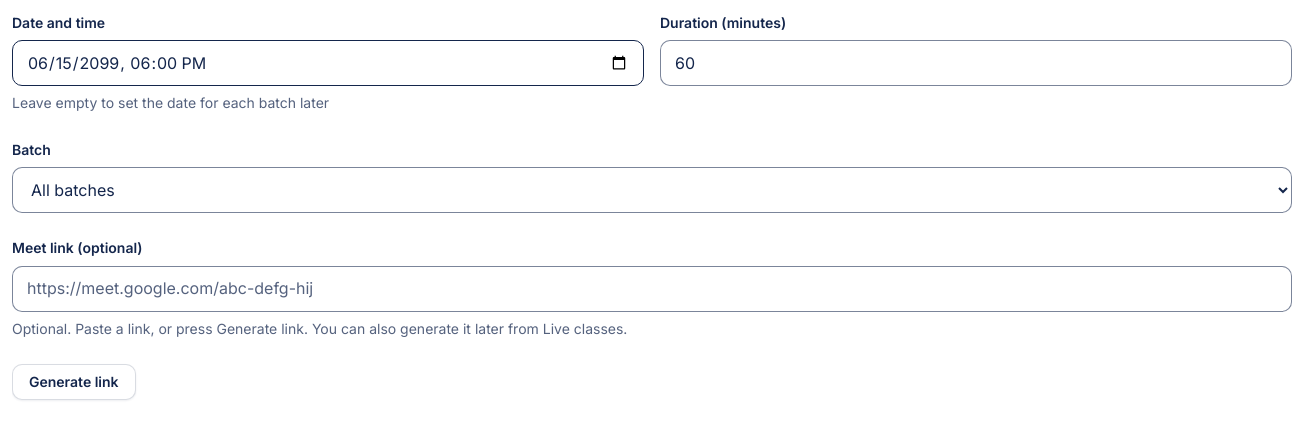
in the live lesson form the generated link fills the optional Meet link field
This screenshot has width=1304, height=421.
Click the button "Generate link".
click(74, 382)  # box top-left (12, 364), bottom-right (136, 400)
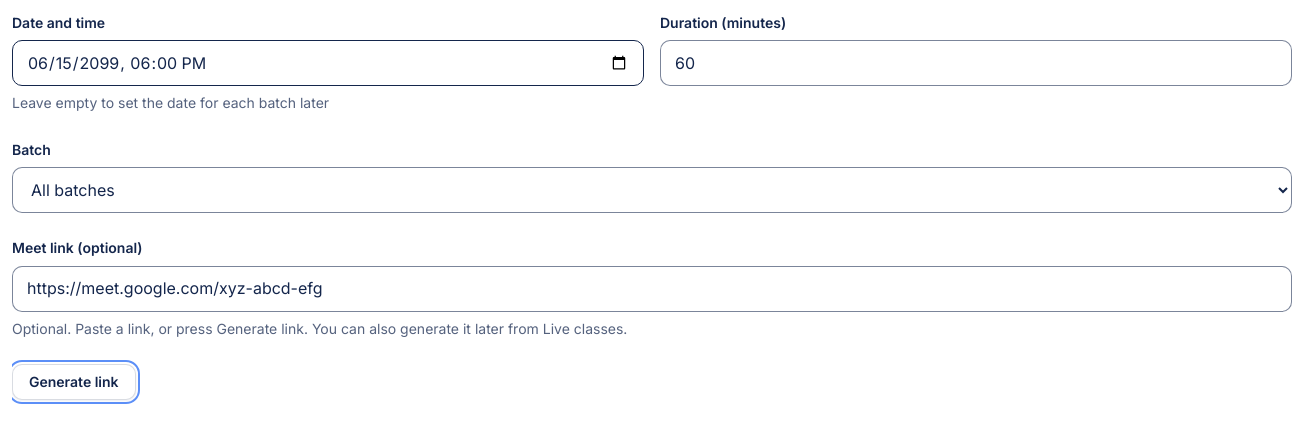
Check: the field labelled "Meet link (optional)" holds "https://meet.google.com/xyz-abcd-efg", box top-left (12, 266), bottom-right (1292, 312)
